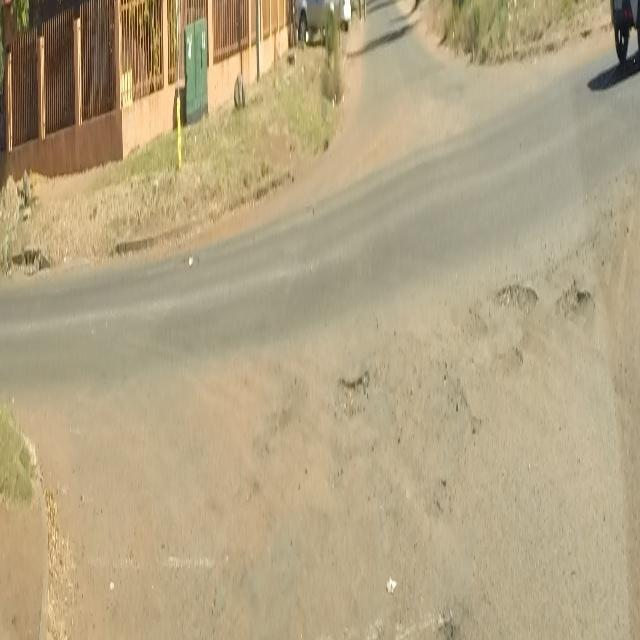pothole: (491, 268, 597, 338), (334, 364, 370, 417)
